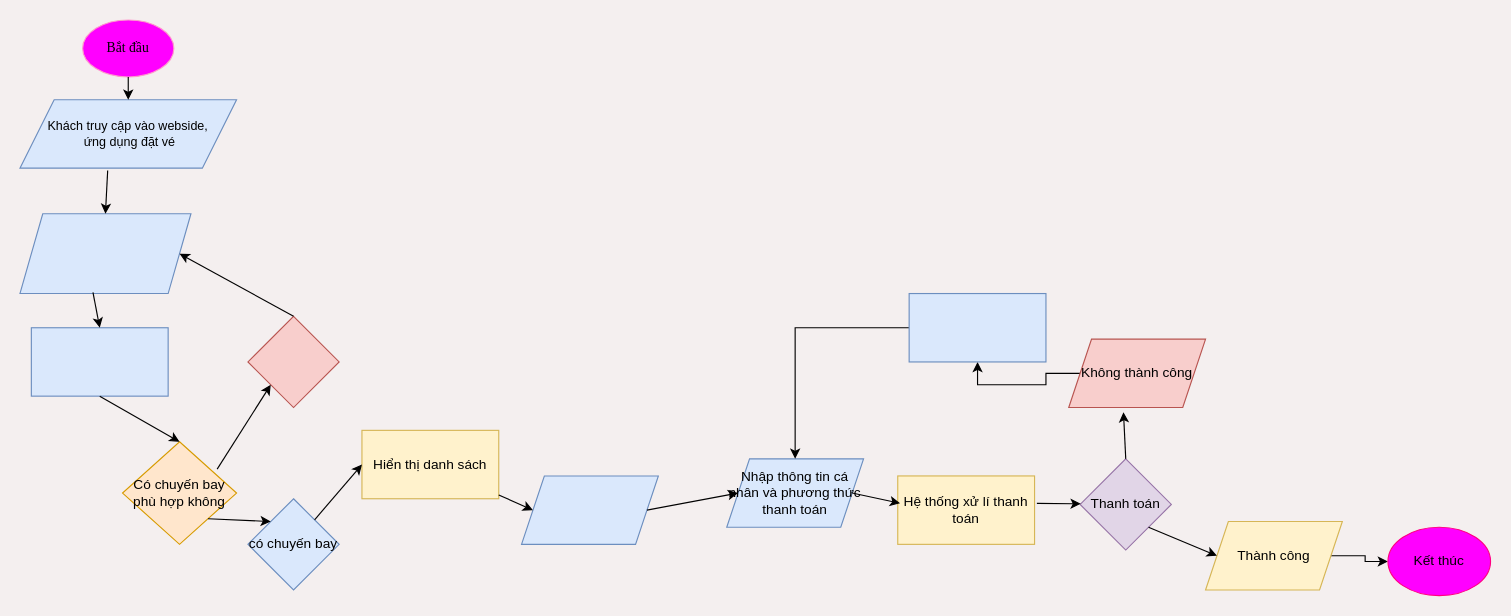
The diagram is 1511 pixels wide and 616 high, and some of its shapes have lost their labels. Each missing label, with the centre of its shape:
Hệ thống tìm chuyến bay phù hợp: [99,361]
Khách hàng chọn chuyến bay: [589,509]
Khách hàng nhập thông tin chuyến bay: [105,253]
không có chuyến bay: [293,361]
Thông báo lỗi yêu cầu nhập lại: [977,327]
